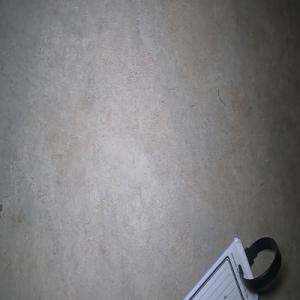LuggageTag: (177, 235, 282, 300)
